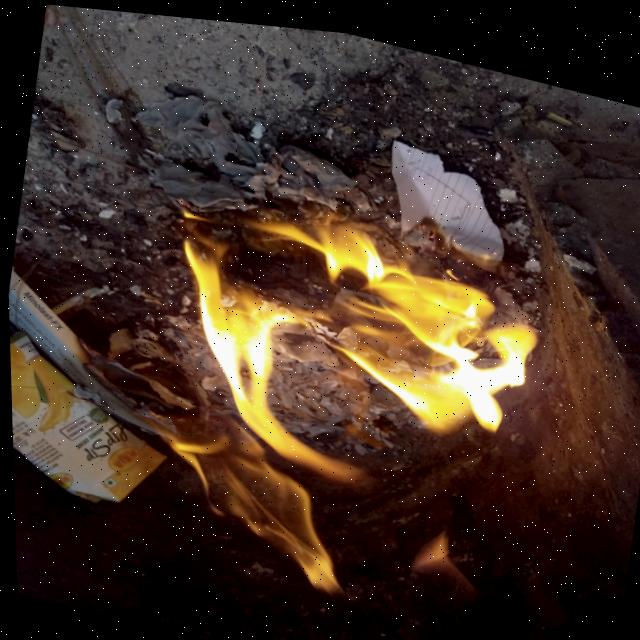Fire: (127, 170, 556, 636)
